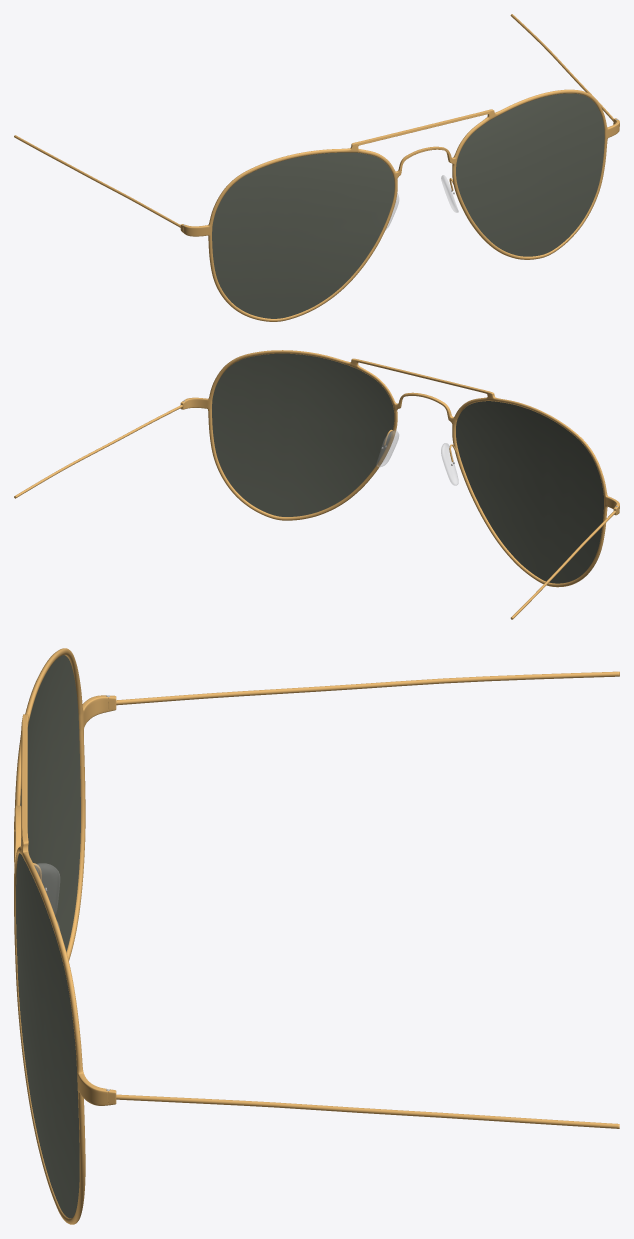
File: aviator_sunglasses.glb
The picture shows the model from 3 angles, top to bottom: view 1: azimuth 30°, elevation 25°; view 2: azimuth 150°, elevation 25°; view 3: azimuth 270°, elevation 25°; orthographic projection. The views are drawn at different scales.
Visible parts, largest first — view 1: Aviators_Glass tinted_0, Aviators_Gold metallic_0, left_temple, right_temple; view 2: Aviators_Glass tinted_0, Aviators_Gold metallic_0, Aviators_Transparent_0, right_temple, left_temple; view 3: Aviators_Glass tinted_0, Aviators_Gold metallic_0, right_temple, left_temple.
Part boxes in pixels (<box>): Aviators_Glass tinted_0: <box>212,93,604,318</box>; Aviators_Gold metallic_0: <box>180,89,619,321</box>; left_temple: <box>14,135,180,227</box>; right_temple: <box>510,14,613,121</box>; Aviators_Glass tinted_0: <box>212,353,603,583</box>; Aviators_Gold metallic_0: <box>180,350,619,587</box>; Aviators_Transparent_0: <box>377,430,458,485</box>; right_temple: <box>14,405,182,498</box>; left_temple: <box>510,510,615,619</box>; Aviators_Glass tinted_0: <box>16,655,80,1218</box>; Aviators_Gold metallic_0: <box>14,648,116,1224</box>; right_temple: <box>116,1094,619,1128</box>; left_temple: <box>116,671,619,705</box>.
Size of the model in its own units: 0.1599 by 0.052 by 0.0901.
